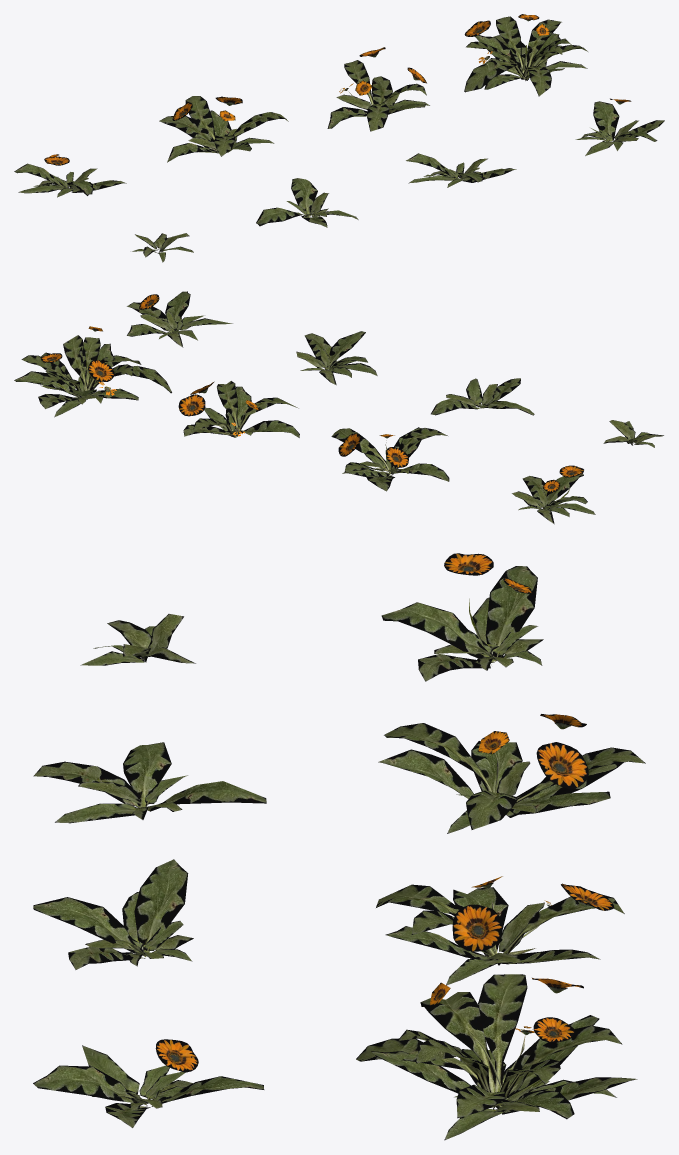
File: flower_gazania.glb
The picture shows the model from 3 angles, top to bottom: view 1: azimuth 30°, elevation 25°; view 2: azimuth 150°, elevation 25°; view 3: azimuth 270°, elevation 25°; orthographic projection. The views are drawn at different scales.
Parts seen in each view (by area): view 1: flower_gazania_a_LOD0; view 2: flower_gazania_a_LOD0; view 3: flower_gazania_a_LOD0.
Boxes of the visible parts, x1=… form: flower_gazania_a_LOD0: x1=14, y1=14, x2=664, y2=262; flower_gazania_a_LOD0: x1=14, y1=291, x2=663, y2=524; flower_gazania_a_LOD0: x1=33, y1=553, x2=645, y2=1140.
Bounding box in the file's own units: 1.48 × 0.1624 × 0.7015.
Materials: 1 (1 with a texture image).
